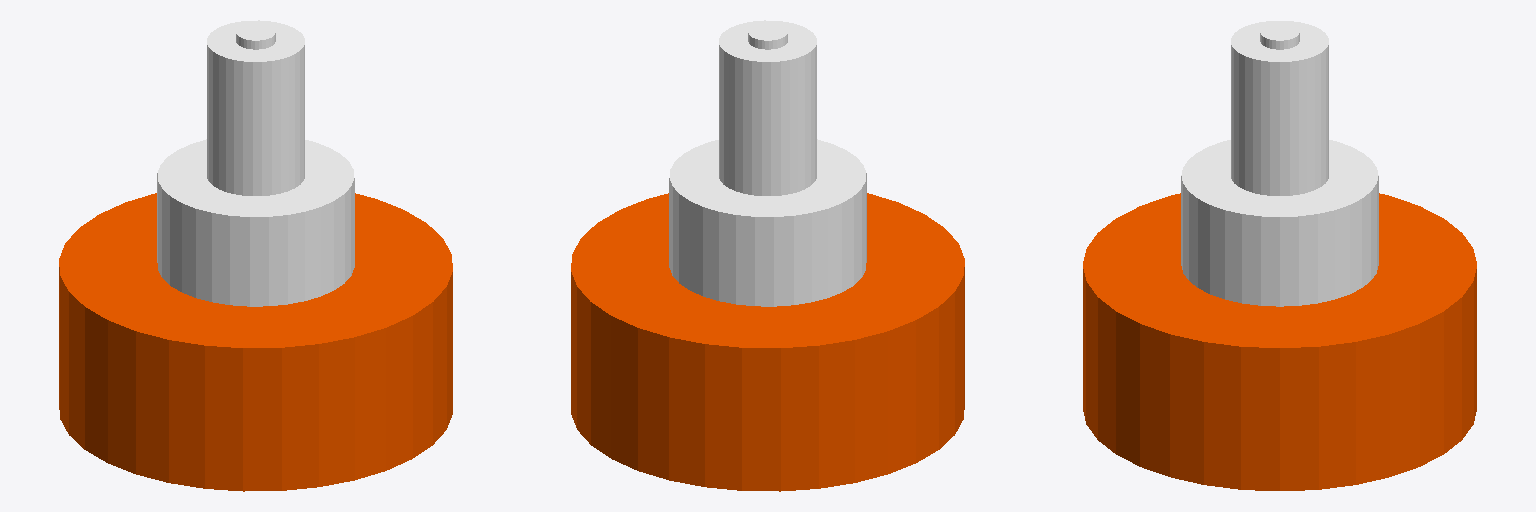
URDF robot description (wisson_nimbo_kn800):
<?xml version="1.0" ?>
<robot name="wisson_nimbo_kn800">
    
<!--base_link-->>
    <link name="base_link">   
        <visual> 
            <origin xyz="0.0 0.0 -0.08" rpy="0.0 0.0 0.0"/> 
            <geometry>  
                <cylinder radius="0.20" length="0.16"/>             
            </geometry>
            <material name="yellow"> 
                <color rgba="1 0.4 0 1"/>  
            </material>
        </visual>
    </link>

<!--link1-->>


    <link name="link1">
        <visual>
            <origin xyz="0.0 0.0 0.0" rpy="0 0.0 0.0"/>
            <geometry>
                <cylinder radius="0.1" length="0.2"/>
            </geometry>
            <material name="white">
                <color rgba="1 1 1 0.9"/>
            </material>
        </visual>
    </link>

    <joint name="joint1" type="prismatic">   
        <origin xyz="0.0 0.0 0.0" rpy="0.0 0.0 0.0"/> 
        <parent link="base_link"/>  
        <child link="link1"/> 
        <axis xyz="0.0 0 1"/>  
        <limit lower="0.0" upper="0.1" effort="0" velocity="0" />
    </joint>
<!--link2-->>

    <link name="link2">
        <visual>
            <origin xyz="0.0 0.0 0.05" rpy="0 0.0 0.0"/>
            <geometry>
                <box size="0.01 0.01 0.01" />
            </geometry>
            <material name="white">
                <color rgba="1 1 1 0.9"/>
            </material>
        </visual>
    </link>
    <joint name="joint2" type="revolute">   
        <origin xyz="0.0 0.0 0.05" rpy="0.0 0.0 0.0"/> 
        <parent link="link1"/>  
        <child link="link2"/> 
        <axis xyz="0.0 0 1"/>  
        <limit lower="-3.14" upper="3.14" effort="0" velocity="0" />
    </joint>


    <joint name="joint3" type="revolute">   
        <origin xyz="0.0 0.0 0.05" rpy="0.0 0.0 0.0"/> 
        <parent link="link2"/>  
        <child link="link3"/> 
        <axis xyz="1 0 0"/>  
        <limit lower="0" upper="1.57" effort="0" velocity="0" />
    </joint>

        <link name="link3">
        <visual>
            <origin xyz="0.0 0.0 0.05" rpy="0 0.0 0.0"/>
            <geometry>
                <cylinder radius="0.05" length="0.2"/>
            </geometry>
            <material name="white">
                <color rgba="1 1 1 0.9"/>
            </material>
        </visual>
    </link>

    <joint name="joint4" type="fixed">   
        <origin xyz="0.0 0.0 0.1" rpy="0.0 0.0 0.0"/> 
        <parent link="link3"/>  
        <child link="link4"/> 
        <axis xyz="1 0 0"/>  
        <!-- <limit lower="0" upper="1.57" effort="0" velocity="0" /> -->
    </joint>

        <link name="link4">
        <visual>
            <origin xyz="0.0 0.0 0.05" rpy="0 0.0 0.0"/>
            <geometry>
                <cylinder radius="0.02" length="0.02"/>
            </geometry>
            <material name="white">
                <color rgba="1 1 1 0.9"/>
            </material>
        </visual>
    </link>
</robot>

--- Render facts (derived) ---
The picture shows the robot from 3 angles, left to right: view 1: azimuth 30°, elevation 25°; view 2: azimuth 150°, elevation 25°; view 3: azimuth 270°, elevation 25°; orthographic projection.
Model wisson_nimbo_kn800 with 5 links and 4 joints (2 revolute, 1 prismatic, 1 fixed), rooted at base_link, posed all joints at 0.
Links seen in each view (by area): view 1: base_link, link1, link3, link4; view 2: base_link, link1, link3, link4; view 3: base_link, link1, link3, link4.
Boxes of the visible links, x1,y1,x2,y2 form: base_link: (59, 193, 452, 491); link1: (157, 139, 354, 306); link3: (207, 20, 304, 195); link4: (236, 24, 275, 49); base_link: (571, 193, 964, 491); link1: (669, 139, 866, 306); link3: (719, 20, 816, 195); link4: (748, 24, 787, 49); base_link: (1083, 193, 1476, 490); link1: (1181, 140, 1378, 306); link3: (1231, 21, 1328, 195); link4: (1260, 24, 1299, 49).
Size in the robot's own frame: 0.4 by 0.4 by 0.42 metres.
Geometry: primitives only (box / cylinder / sphere), no mesh files.
